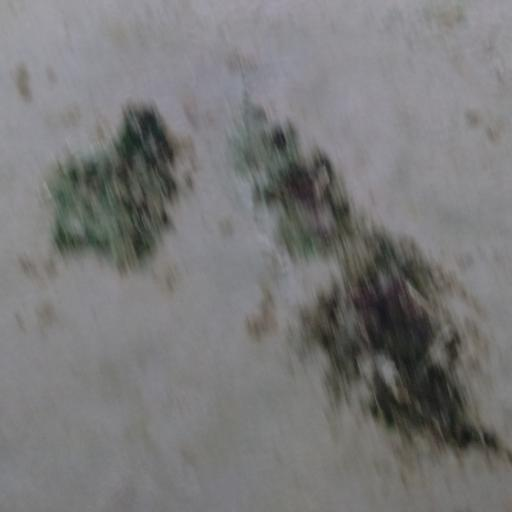algae: (35, 74, 512, 493)
